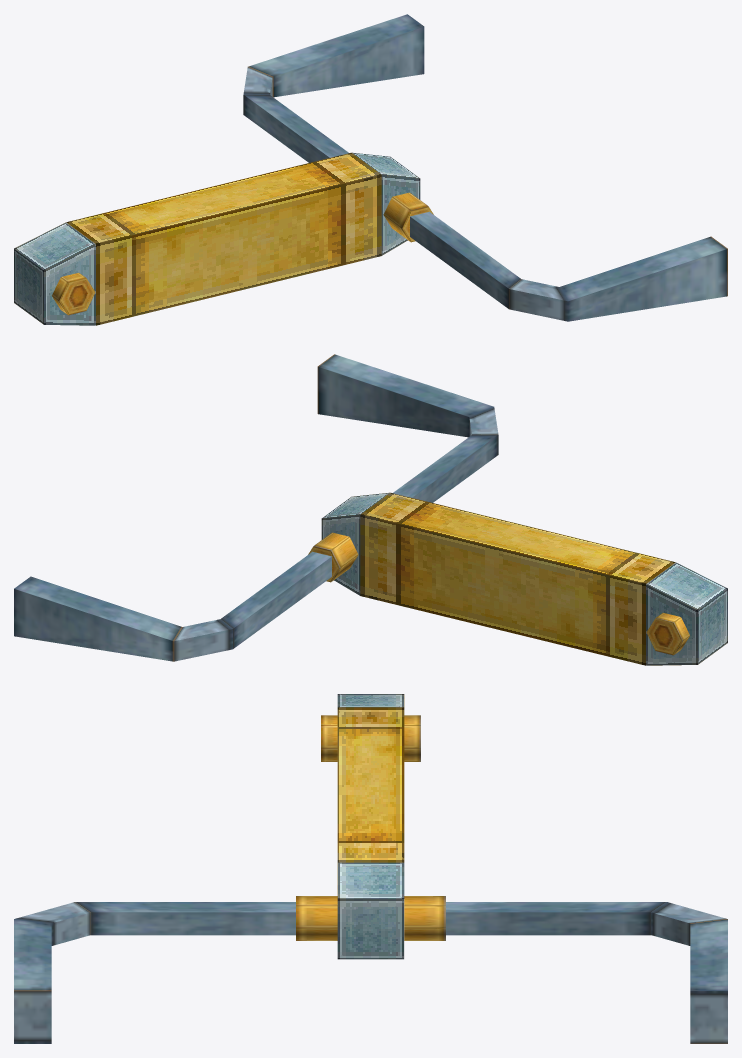
The model's file is Fork.obj.
3 renders of one model, top to bottom at view 1: azimuth 30°, elevation 25°; view 2: azimuth 150°, elevation 25°; view 3: azimuth 270°, elevation 25°, orthographic. The views are drawn at different scales.
Size of the model in its own units: 116 by 16.8 by 120.
Materials: 2 (2 with a texture image).
